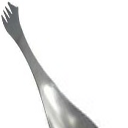Fork: (1, 2, 98, 128)
